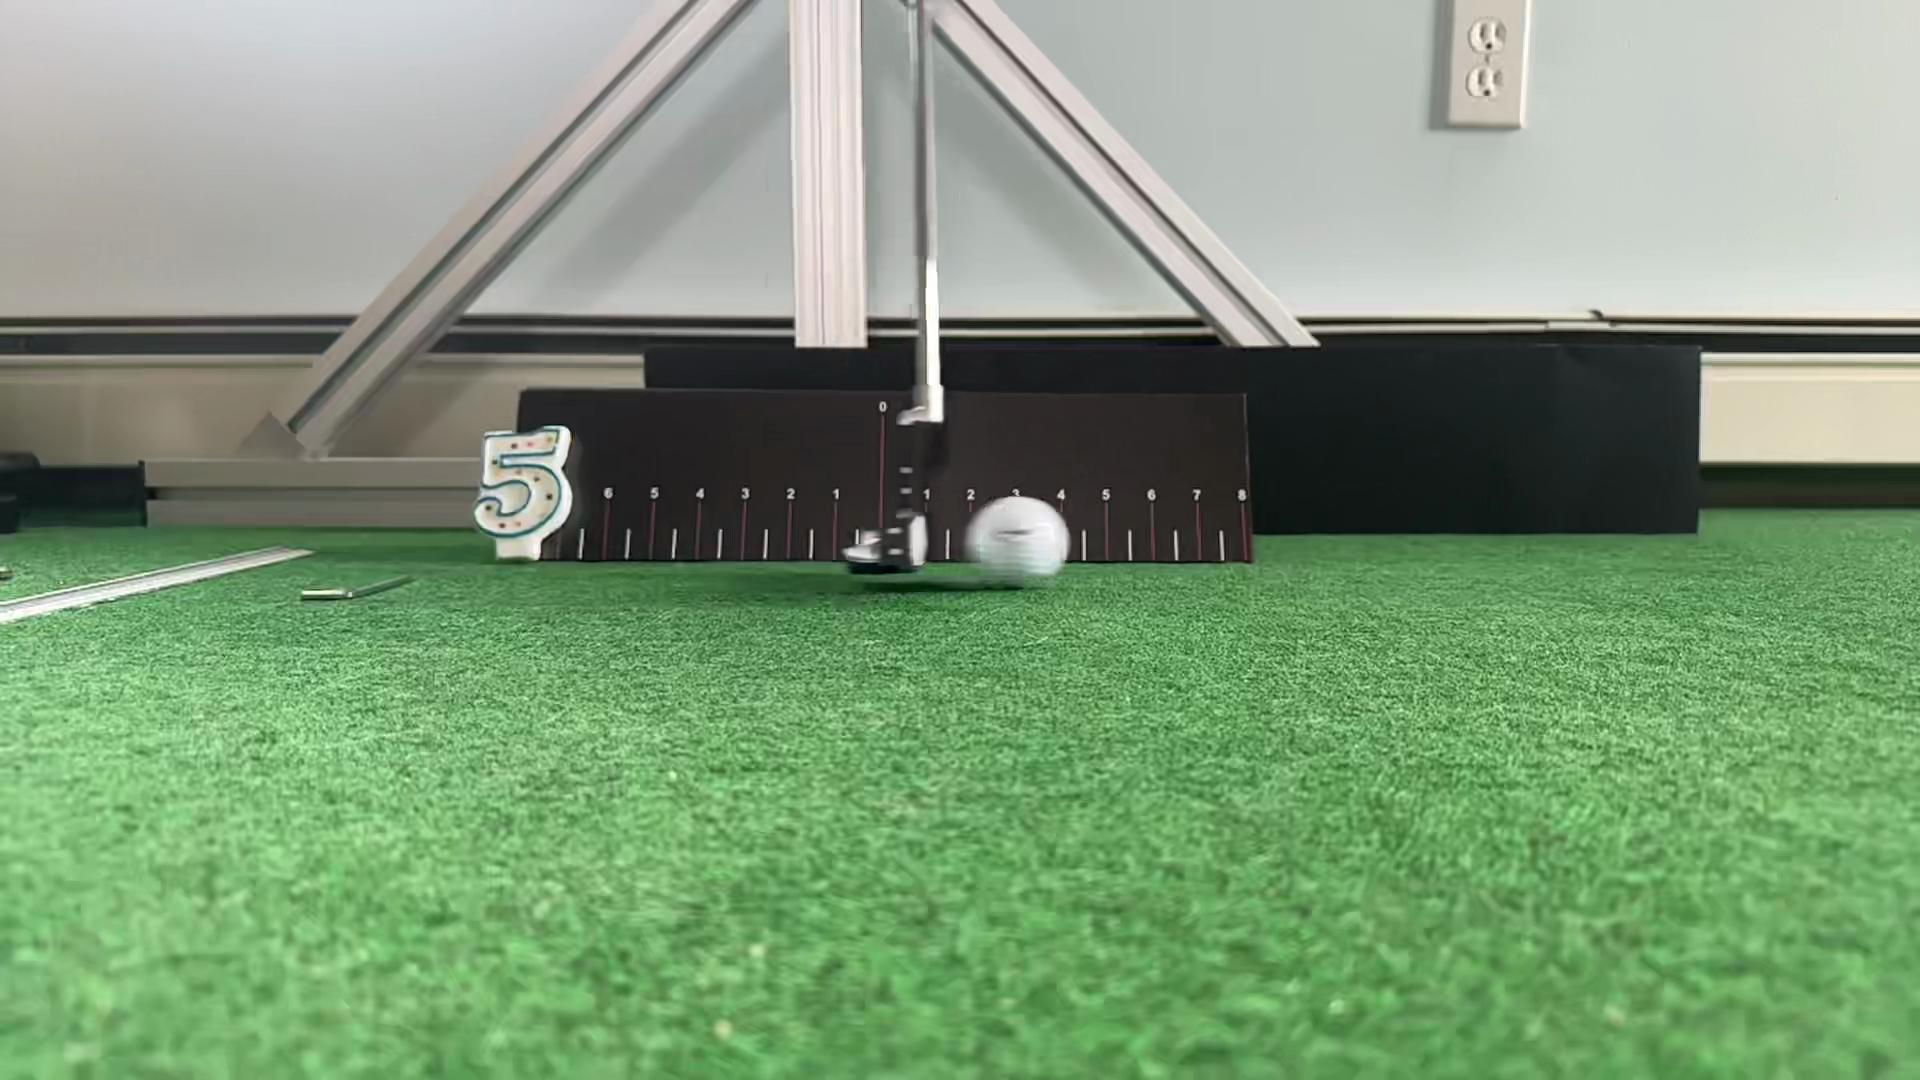golfball: (969, 496, 1068, 584)
